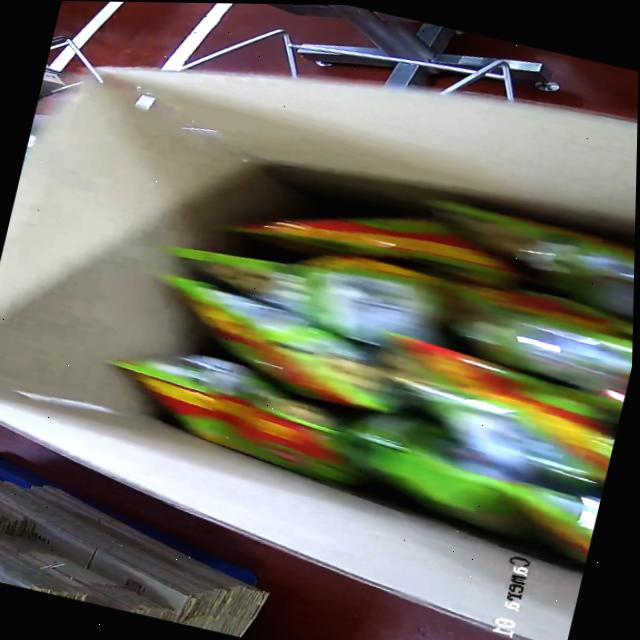YOGURT_HERB: (115, 138, 637, 551)
